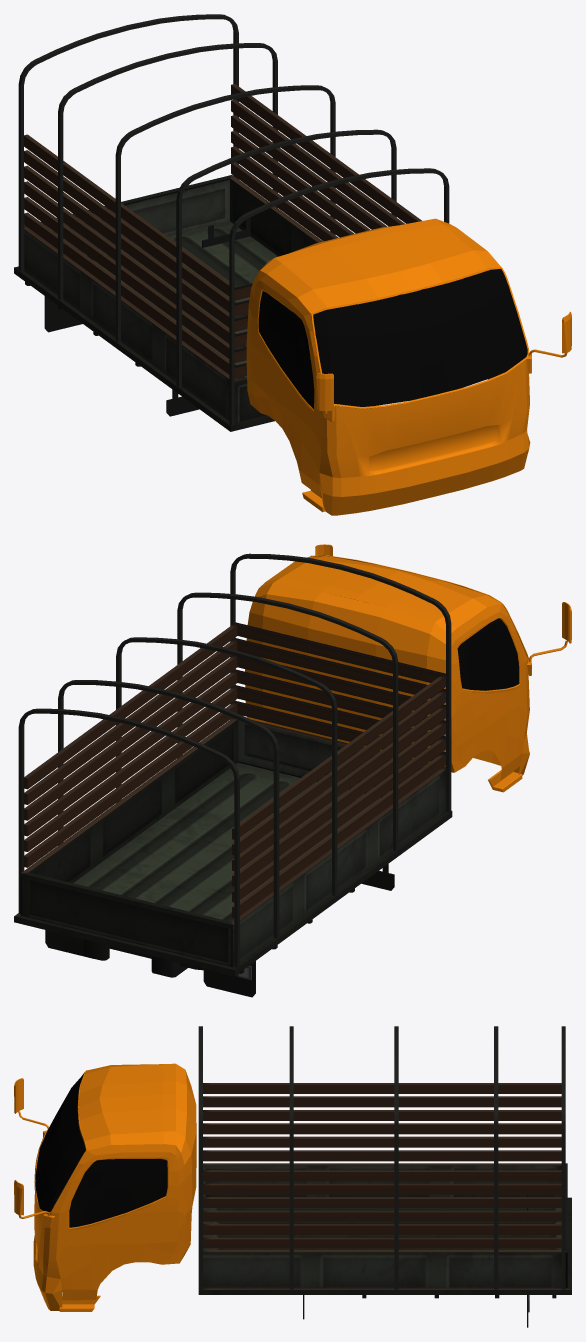
File: Truck.fbx
The picture shows the model from 3 angles, top to bottom: view 1: azimuth 30°, elevation 25°; view 2: azimuth 150°, elevation 25°; view 3: azimuth 270°, elevation 25°; orthographic projection. The views are drawn at different scales.
Parts seen in each view (by area): view 1: Truck; view 2: Truck; view 3: Truck.
Boxes of the visible parts, bbox=[...] form: Truck: bbox=[14, 14, 571, 515]; Truck: bbox=[14, 544, 571, 997]; Truck: bbox=[14, 1026, 571, 1327].
Size of the model in its own units: 276 by 274 by 605.
